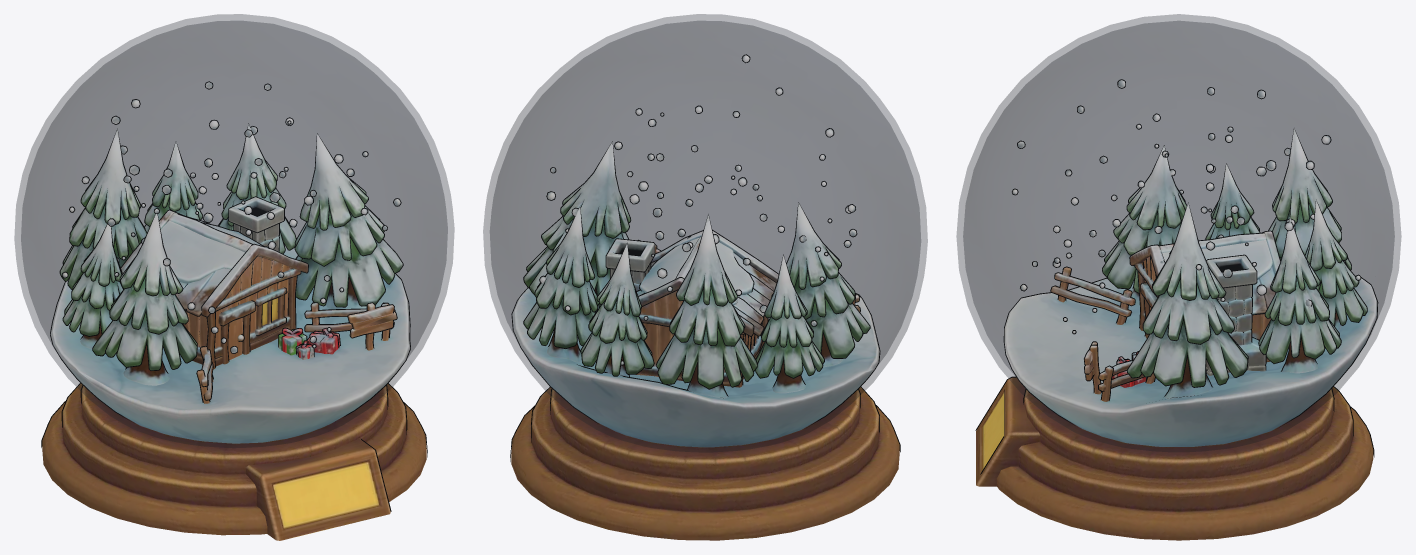
File: christmas-ball-transformed.glb
3 renders of one model, left to right at view 1: azimuth 30°, elevation 25°; view 2: azimuth 150°, elevation 25°; view 3: azimuth 270°, elevation 25°, orthographic.
Visible parts, largest first — view 1: glass_glass_0, christmass_ball_inside_0, christmass_ball_ouline_0; view 2: glass_glass_0, christmass_ball_inside_0, christmass_ball_ouline_0; view 3: glass_glass_0, christmass_ball_inside_0, christmass_ball_ouline_0.
Part boxes in pixels (x1,y1,x2,y2): glass_glass_0: (14, 14, 454, 447); christmass_ball_inside_0: (42, 82, 426, 540); christmass_ball_ouline_0: (41, 81, 427, 511); glass_glass_0: (483, 14, 927, 452); christmass_ball_inside_0: (511, 55, 899, 540); christmass_ball_ouline_0: (510, 54, 900, 461); glass_glass_0: (956, 14, 1401, 451); christmass_ball_inside_0: (976, 80, 1377, 540); christmass_ball_ouline_0: (975, 79, 1378, 474).
Size of the model in its own units: 2.79 by 2.93 by 2.79.
3 materials, 2 textured.
